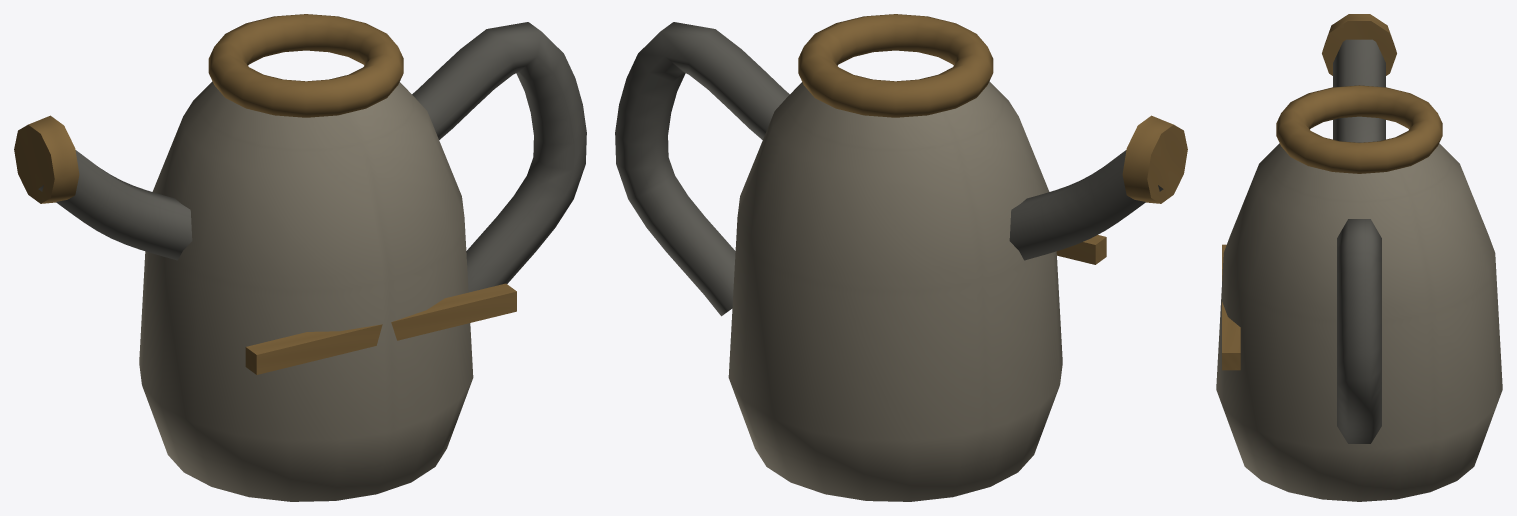
The model's file is sk-household-jug.glb.
3 views of the same model, side by side, from view 1: azimuth 30°, elevation 25°; view 2: azimuth 150°, elevation 25°; view 3: azimuth 270°, elevation 25° (orthographic). The views are drawn at different scales.
Visible parts, largest first — view 1: jug-body, household:jug-static-stone, household:jug-static-metal; view 2: jug-body, household:jug-static-stone, household:jug-static-metal; view 3: jug-body, household:jug-static-metal, household:jug-static-stone.
Part boxes in pixels (box(x1,y1,x2,y2)): jug-body: box(139, 81, 473, 501); household:jug-static-stone: box(38, 22, 586, 292); household:jug-static-metal: box(14, 14, 516, 374); jug-body: box(728, 81, 1062, 501); household:jug-static-stone: box(615, 22, 1163, 316); household:jug-static-metal: box(798, 14, 1187, 264); jug-body: box(1216, 143, 1502, 501); household:jug-static-metal: box(1222, 14, 1442, 370); household:jug-static-stone: box(1333, 39, 1385, 443).
Size of the model in its own units: 0.718 by 0.522 by 0.38.
3 materials, 3 textured.
